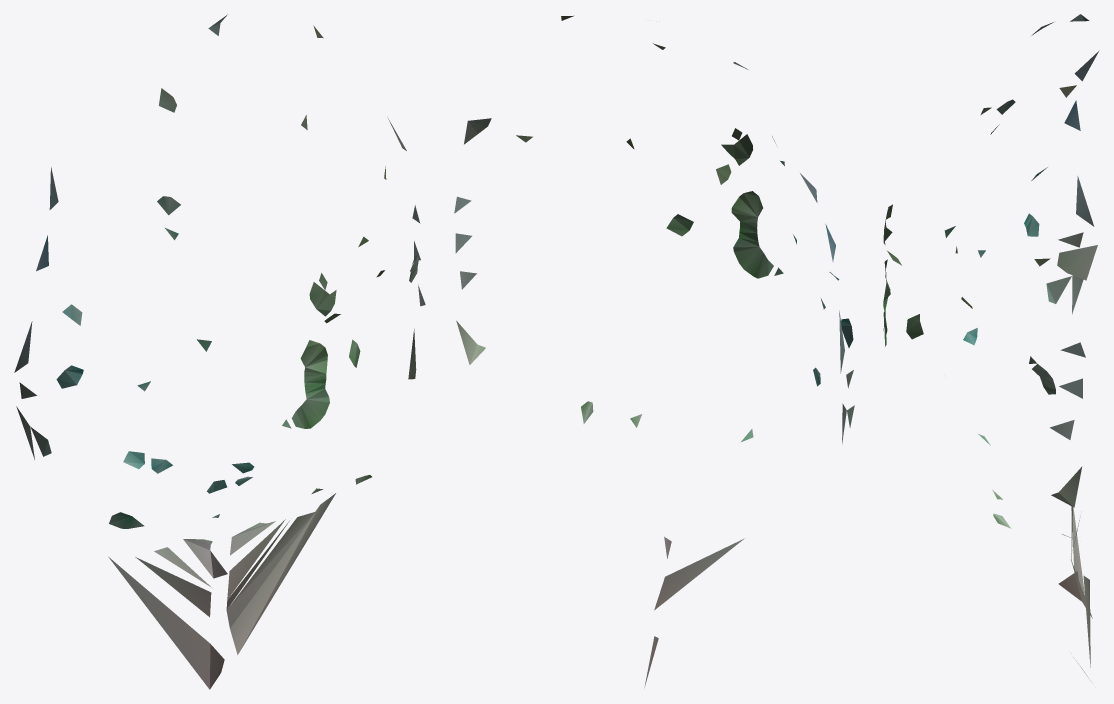
File: ששש_modern.glb
3 views of the same model, side by side, from view 1: azimuth 30°, elevation 25°; view 2: azimuth 150°, elevation 25°; view 3: azimuth 270°, elevation 25° (orthographic).
Parts seen in each view (by area): view 1: world; view 2: world; view 3: world.
Boxes of the visible parts, <box> form: world: <box>14,14,425,689</box>; world: <box>454,15,854,687</box>; world: <box>883,14,1099,680</box>.
Size of the model in its own units: 80 by 131 by 37.99.
